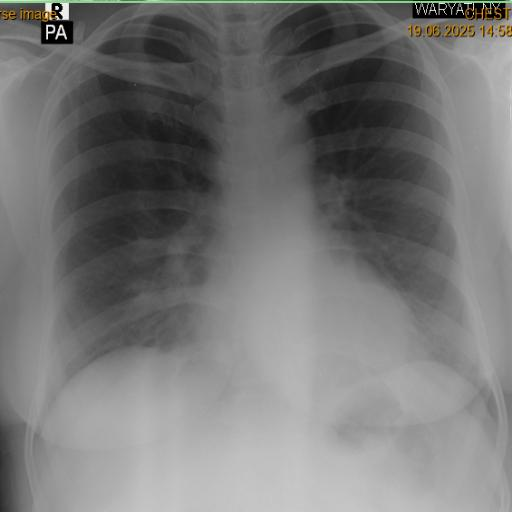kardiomegali: (24, 10, 504, 454)
